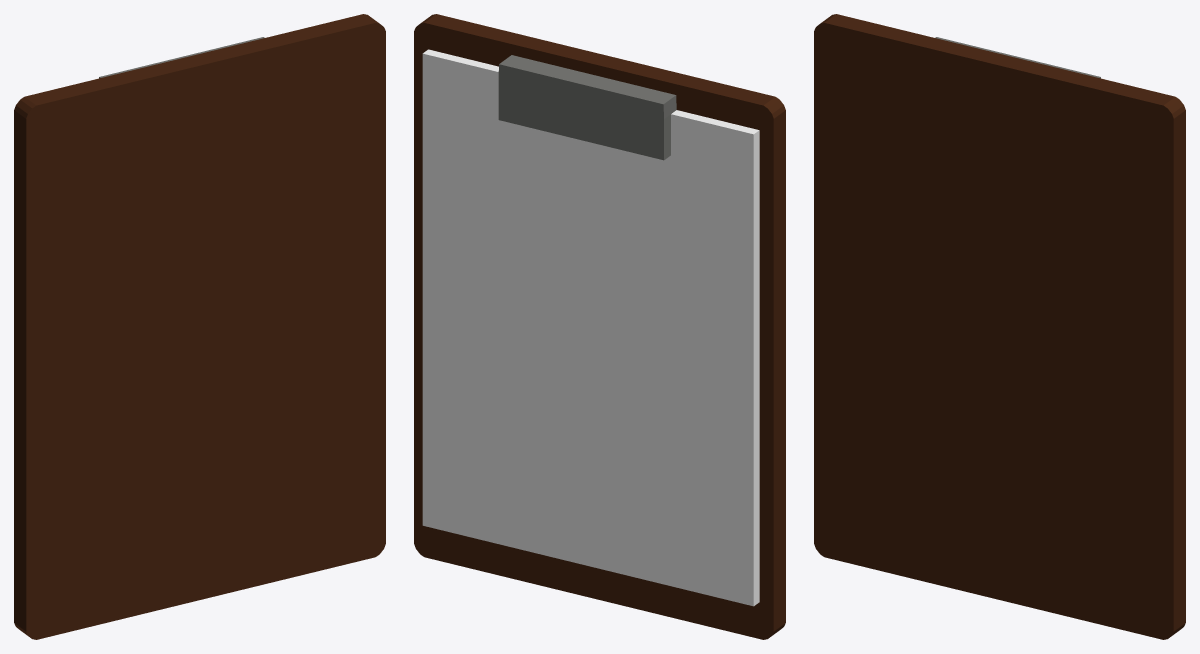
Rendered from Clipboard.fbx.
3 views of the same model, side by side, from view 1: azimuth 30°, elevation 25°; view 2: azimuth 150°, elevation 25°; view 3: azimuth 330°, elevation 25° (orthographic).
Parts seen in each view (by area): view 1: Cube; view 2: Cube; view 3: Cube.
Part boxes in pixels (x1,y1,x2,y2): Cube: (14, 14, 385, 639); Cube: (414, 14, 785, 639); Cube: (814, 14, 1185, 639).
Size of the model in its own units: 266 by 377 by 31.64.
Materials: 1 (1 with a texture image).
